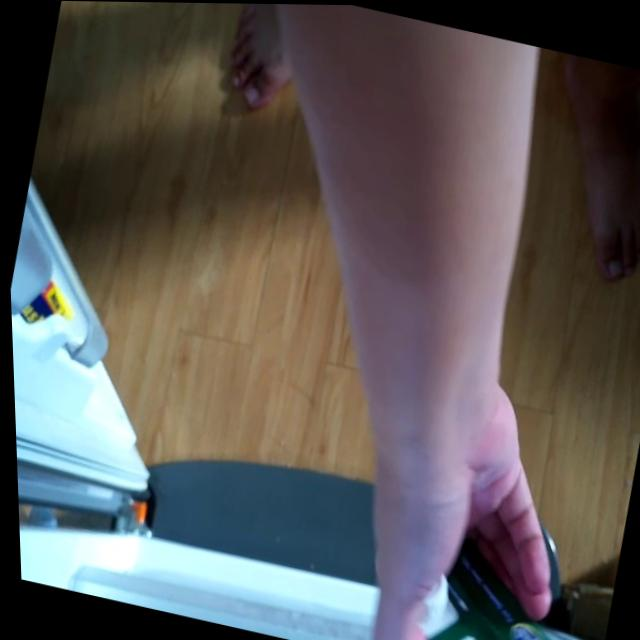milk: (395, 558, 578, 640)
